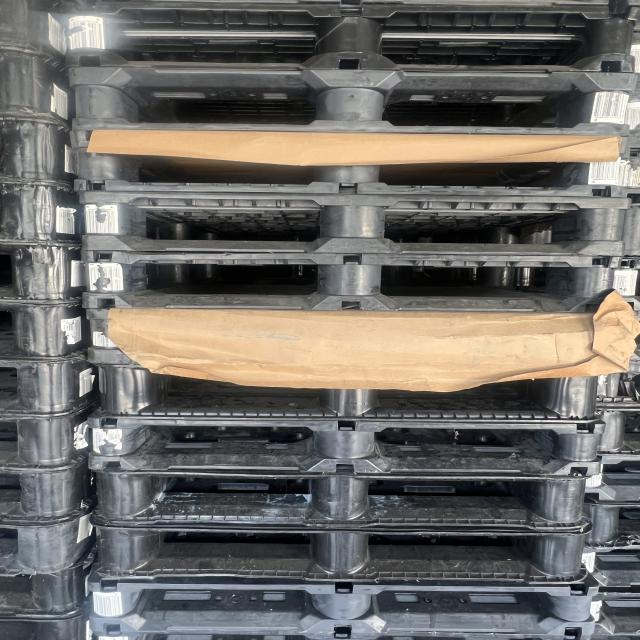igps: (56, 61, 640, 142), (53, 0, 640, 80), (59, 124, 640, 204), (72, 240, 640, 317), (69, 186, 636, 262), (84, 511, 599, 588), (83, 563, 602, 639), (85, 465, 596, 535), (90, 359, 605, 427), (83, 414, 609, 479), (0, 350, 107, 420), (0, 295, 102, 365), (0, 108, 85, 190), (0, 41, 78, 130), (0, 517, 110, 579), (0, 464, 106, 528), (0, 236, 93, 308), (0, 175, 87, 250), (0, 414, 102, 474), (0, 561, 95, 621), (0, 0, 79, 70), (578, 498, 640, 552), (580, 453, 640, 502), (0, 612, 100, 640), (593, 404, 640, 458)
